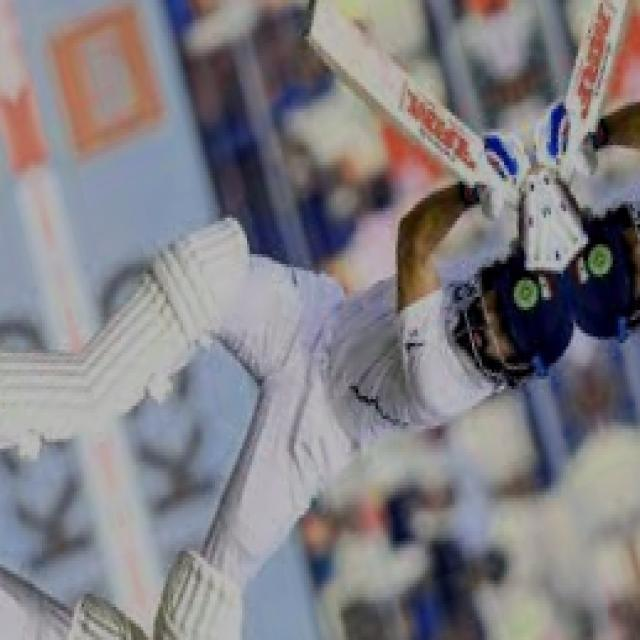bat: (296, 3, 501, 178)
toe: (291, 0, 324, 38)
